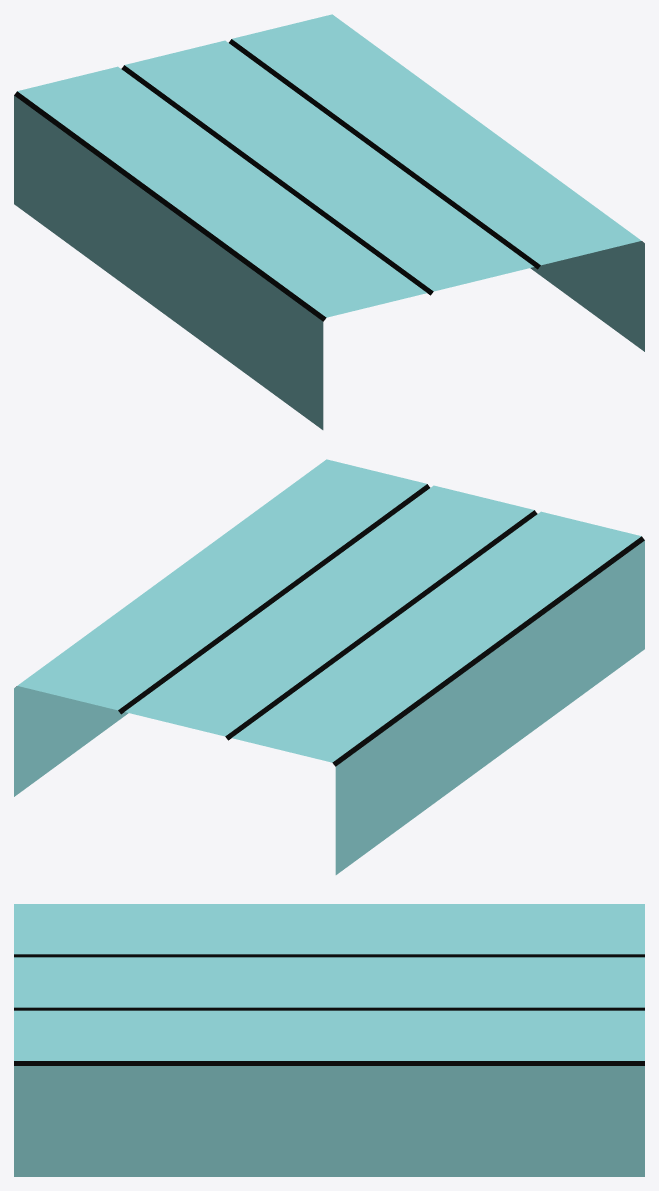
File: road.fbx
The picture shows the model from 3 angles, top to bottom: view 1: azimuth 30°, elevation 25°; view 2: azimuth 150°, elevation 25°; view 3: azimuth 270°, elevation 25°; orthographic projection.
Parts seen in each view (by area): view 1: Road; view 2: Road; view 3: Road.
Part boxes in pixels (left/top/right/bottom): Road: left=14, top=14, right=644, bottom=429; Road: left=14, top=459, right=644, bottom=874; Road: left=14, top=904, right=644, bottom=1176.
Size of the model in its own units: 300 by 100 by 500.
